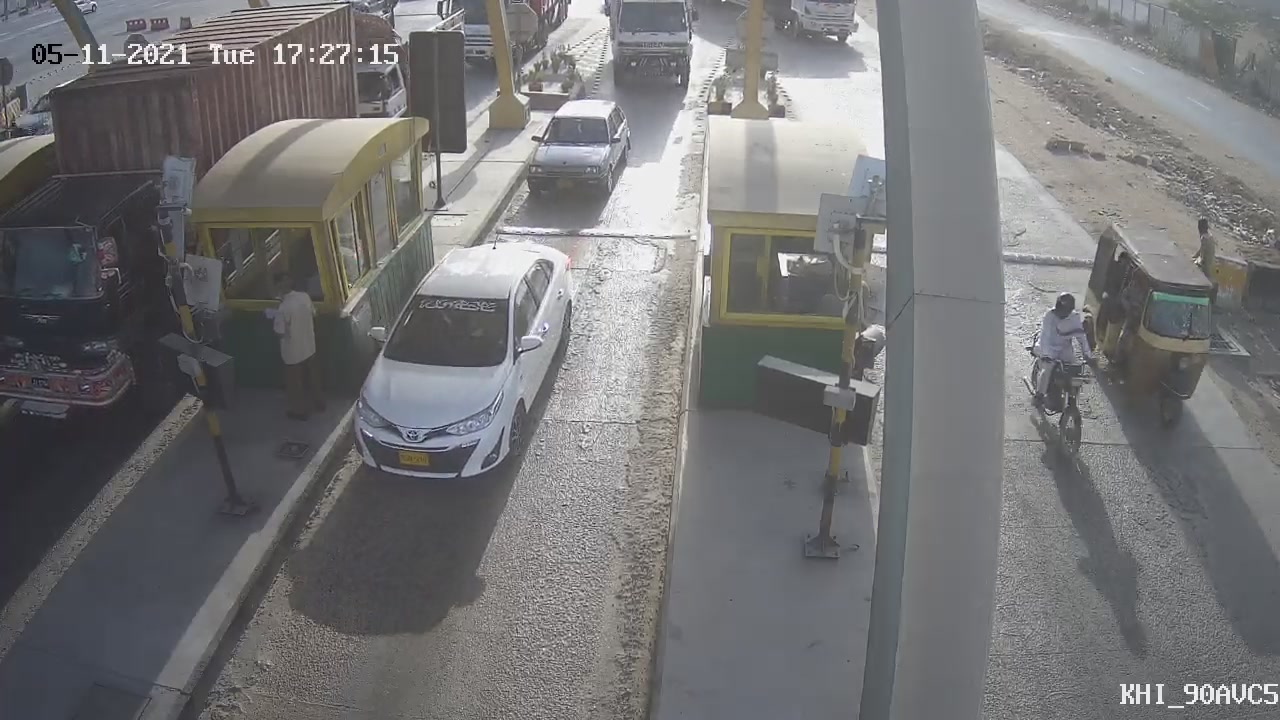F1: (327, 222, 598, 513), (505, 77, 650, 224)
